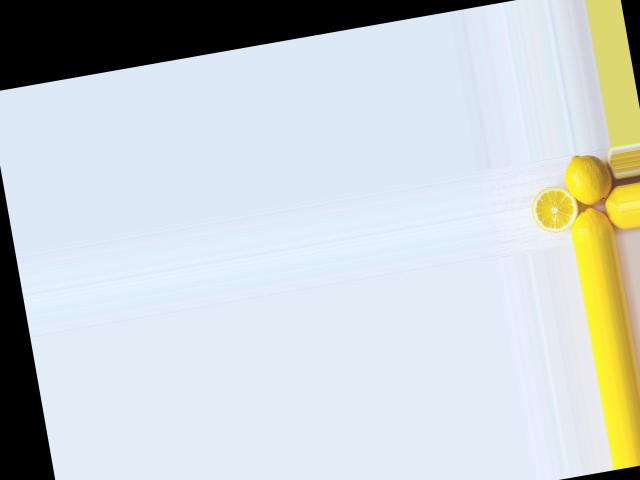lemon: (567, 204, 611, 244)
